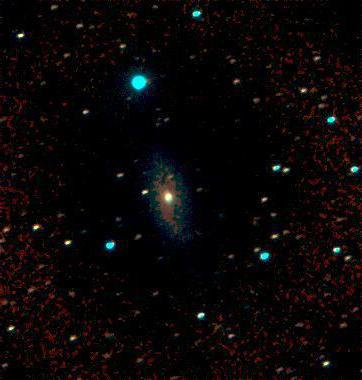star: (152, 164, 182, 194)
